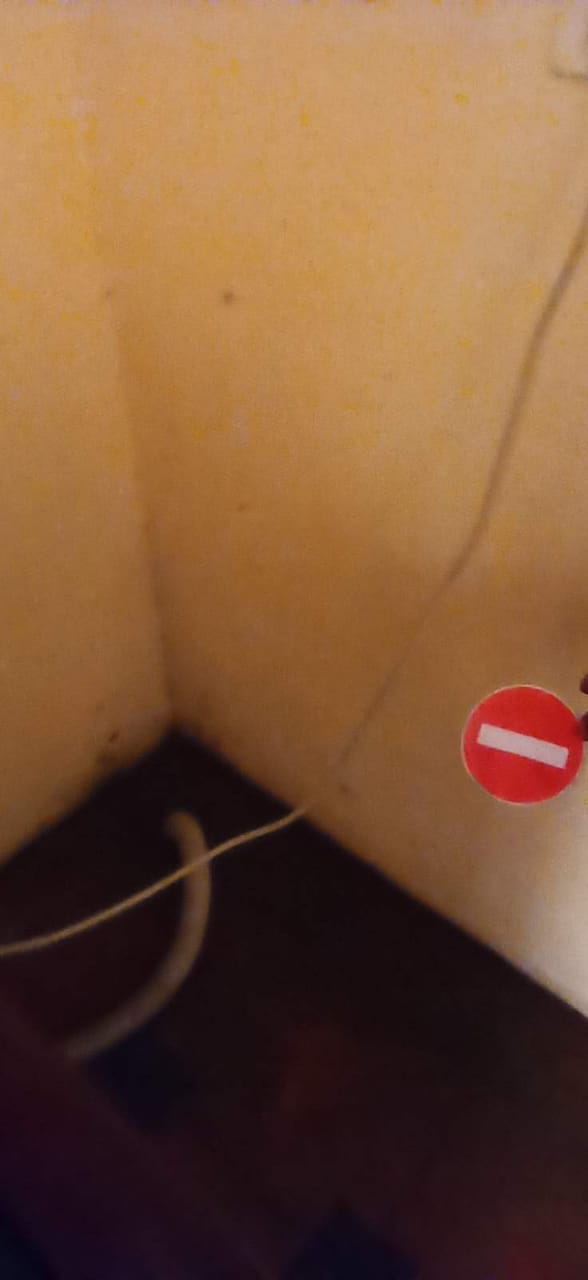NO ENTRY: (446, 671, 588, 824)
